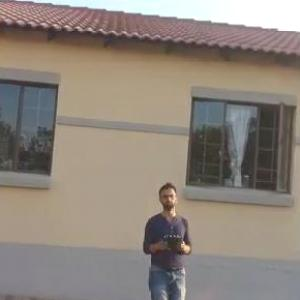follow: (138, 177, 196, 299)
